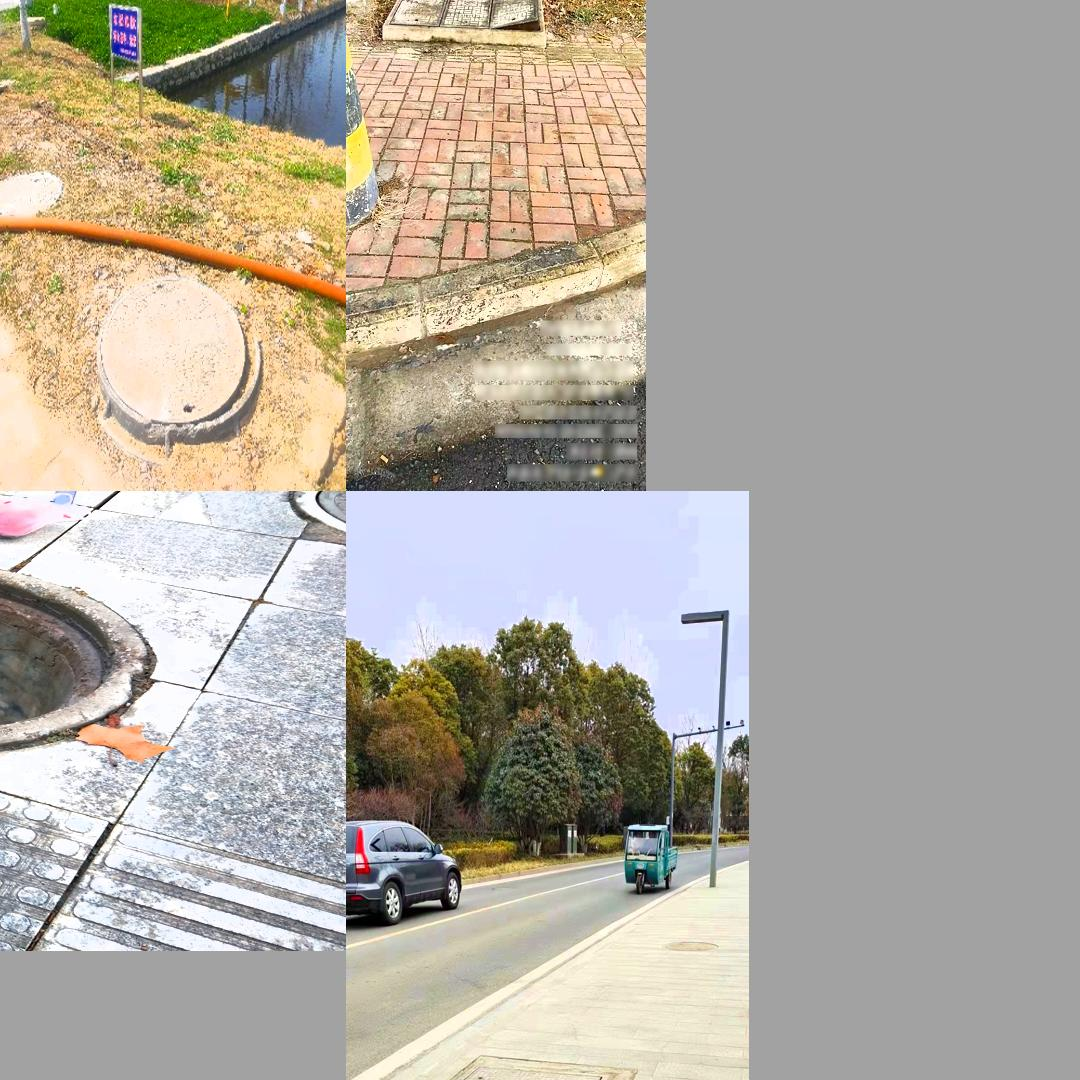good: (0, 171, 65, 219)
uncovered: (0, 491, 150, 749), (94, 272, 263, 446), (380, 0, 546, 36), (386, 1056, 614, 1080)
